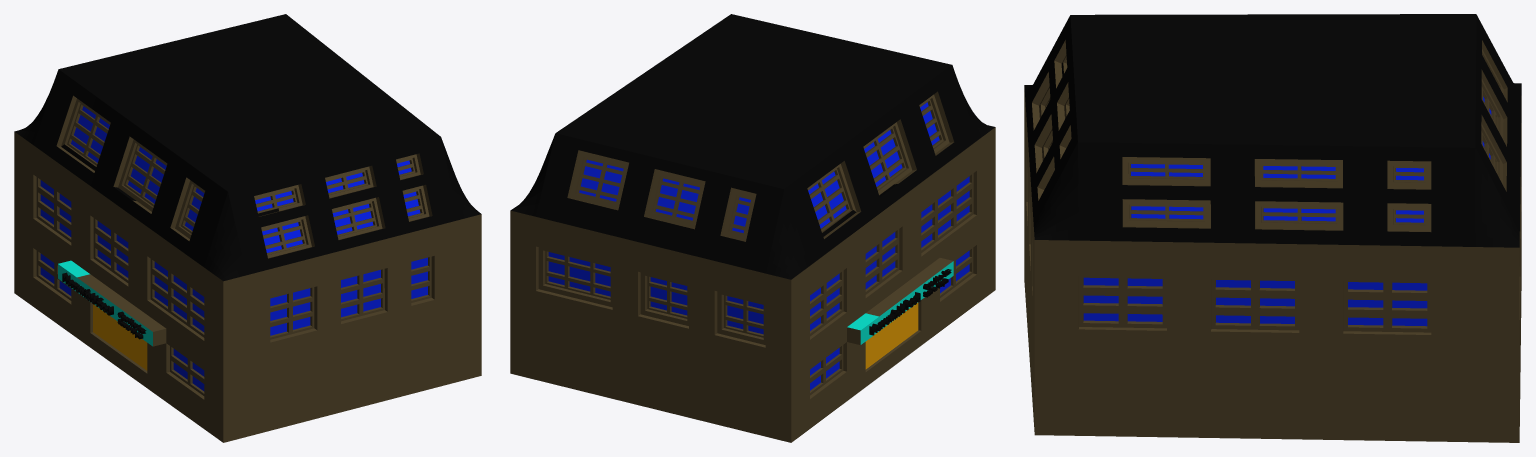
The model's file is MorrowfieldFoodGovernmentRoad.fbx.
The picture shows the model from 3 angles, left to right: view 1: azimuth 30°, elevation 25°; view 2: azimuth 150°, elevation 25°; view 3: azimuth 270°, elevation 25°; orthographic projection. The views are drawn at different scales.
Parts seen in each view (by area): view 1: MorrowfieldFood, Text; view 2: MorrowfieldFood, Text; view 3: MorrowfieldFood.
Boxes of the visible parts, x1,y1,x2,y2 form: MorrowfieldFood: (14,14,481,442); Text: (62,272,113,315); MorrowfieldFood: (510,14,995,442); Text: (869,292,920,335); MorrowfieldFood: (1024,14,1521,442).
Size of the model in its own units: 3279 by 2450 by 3950.
